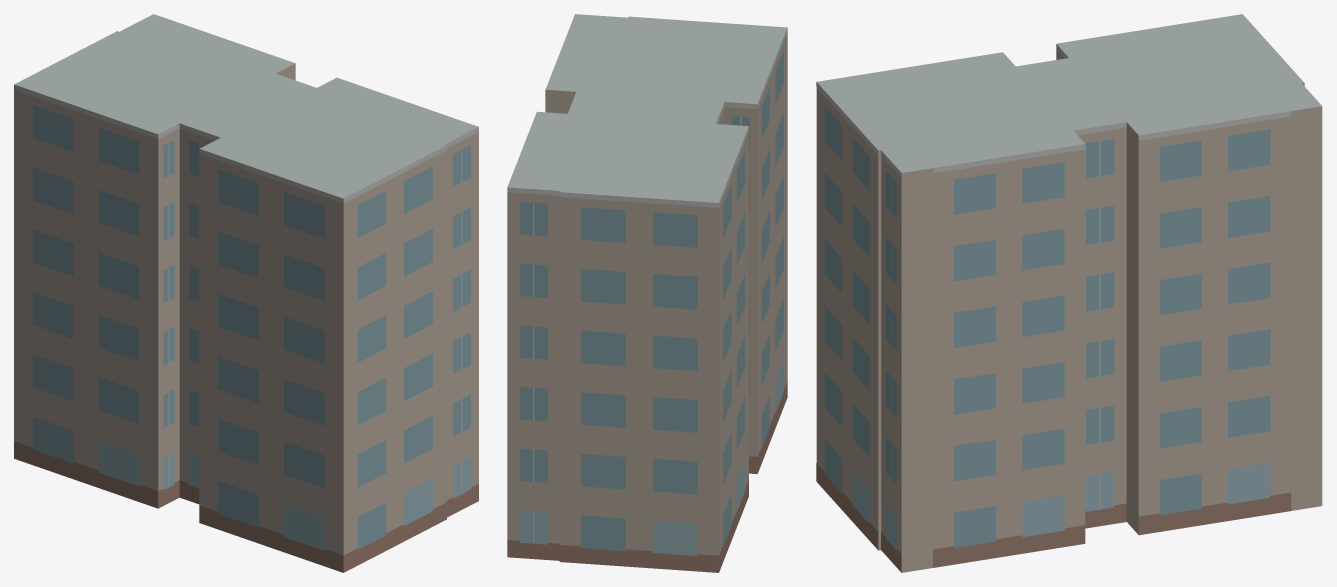
Rendered from survey-upis-32549038.glb.
3 renders of one model, left to right at view 1: azimuth 30°, elevation 25°; view 2: azimuth 150°, elevation 25°; view 3: azimuth 270°, elevation 25°, orthographic. The views are drawn at different scales.
Parts seen in each view (by area): view 1: survey-upis-32549038.tmp; view 2: survey-upis-32549038.tmp; view 3: survey-upis-32549038.tmp.
Part boxes in pixels (left/top/right/bottom): survey-upis-32549038.tmp: left=14, top=14, right=478, bottom=572; survey-upis-32549038.tmp: left=507, top=14, right=787, bottom=572; survey-upis-32549038.tmp: left=816, top=14, right=1322, bottom=572.
Size of the model in its own units: 15.62 by 18.3 by 20.99.
